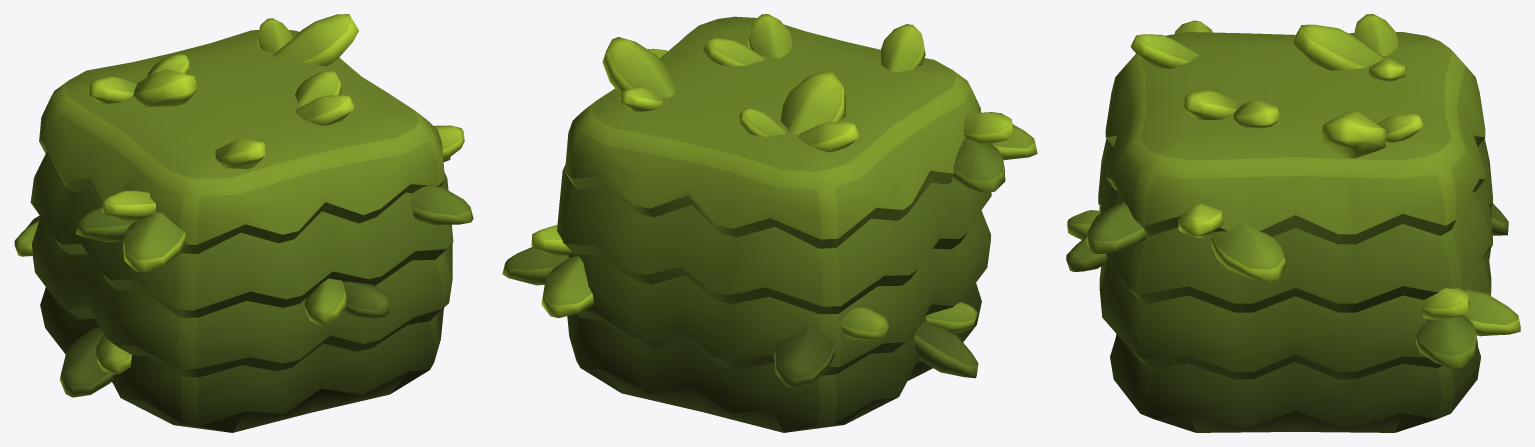
Rendered from bush_square_big_leaves_LOD_group.fbx.
3 views of the same model, side by side, from view 1: azimuth 30°, elevation 25°; view 2: azimuth 150°, elevation 25°; view 3: azimuth 270°, elevation 25° (orthographic). The views are drawn at different scales.
Visible parts, largest first — view 1: bush_square_big_leaves_LOD0; view 2: bush_square_big_leaves_LOD0; view 3: bush_square_big_leaves_LOD0.
Boxes of the visible parts, x1,y1,x2,y2 form: bush_square_big_leaves_LOD0: [14, 14, 473, 432]; bush_square_big_leaves_LOD0: [502, 14, 1037, 432]; bush_square_big_leaves_LOD0: [1066, 14, 1520, 432].
Size of what is drawn, in the model's own units: 306 by 236 by 297.
Materials: 1 (1 with a texture image).
